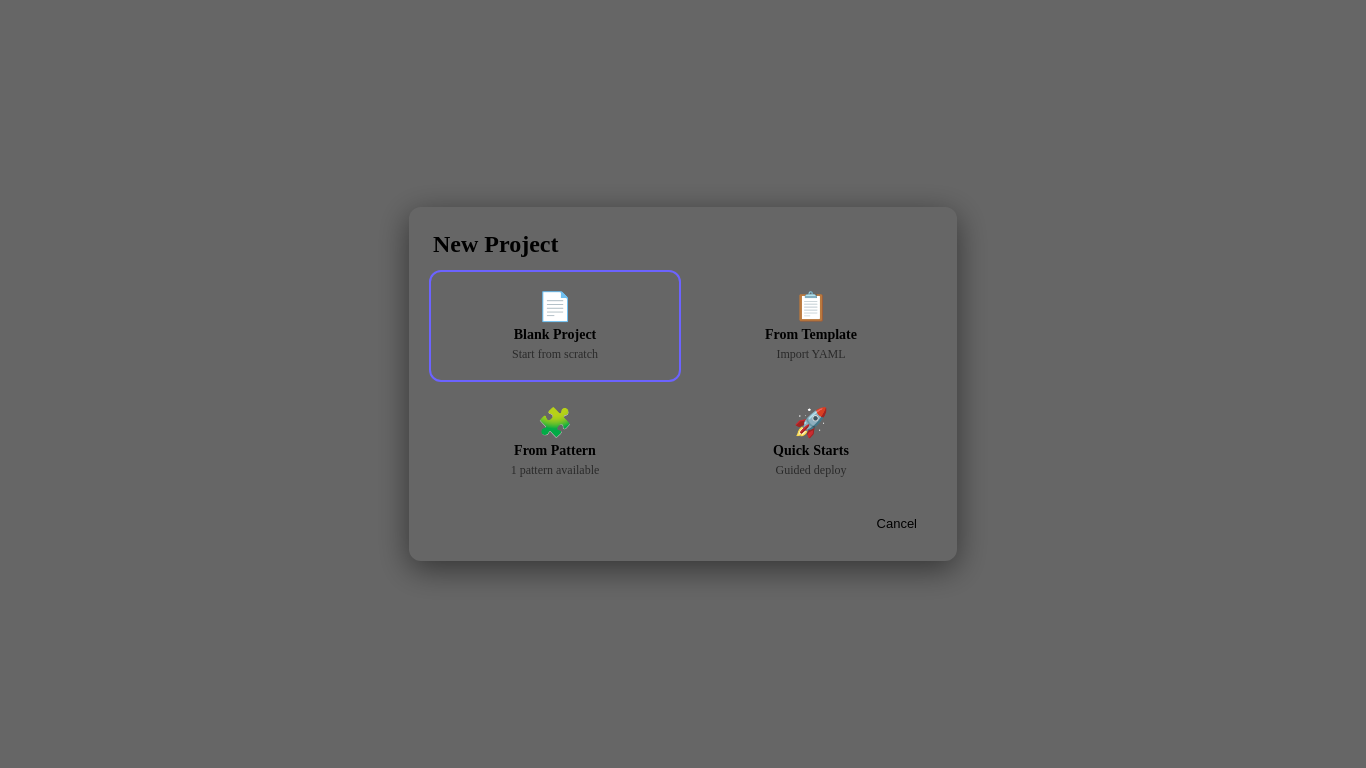
Test: new project creation › shows creation errors, network=true
expect the text "Quick Starts" is shown: met, box [773,443,849,458]
Click the text "Blank Project": (555, 334) [514,327,596,342]
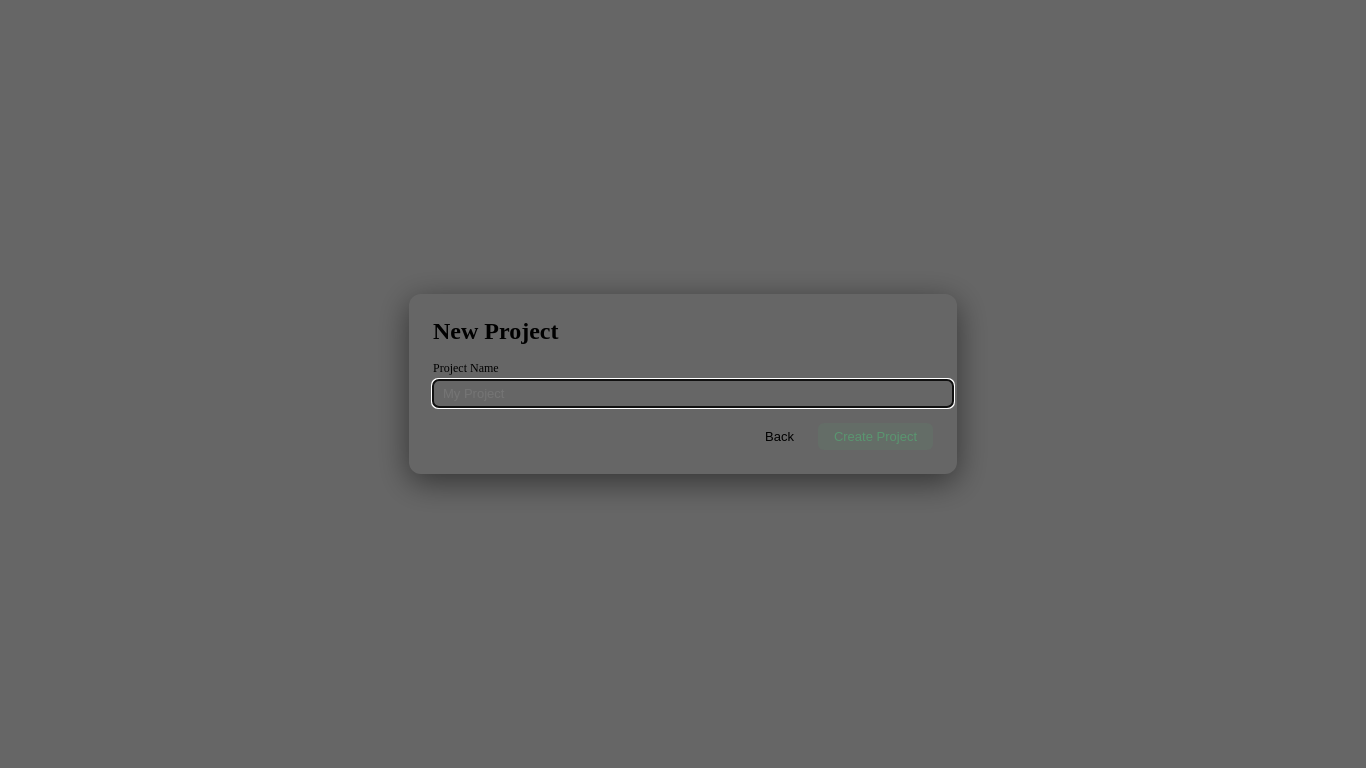
In the field with placeholder "My Project": (693, 394) [433,380,953,407], type "Example"
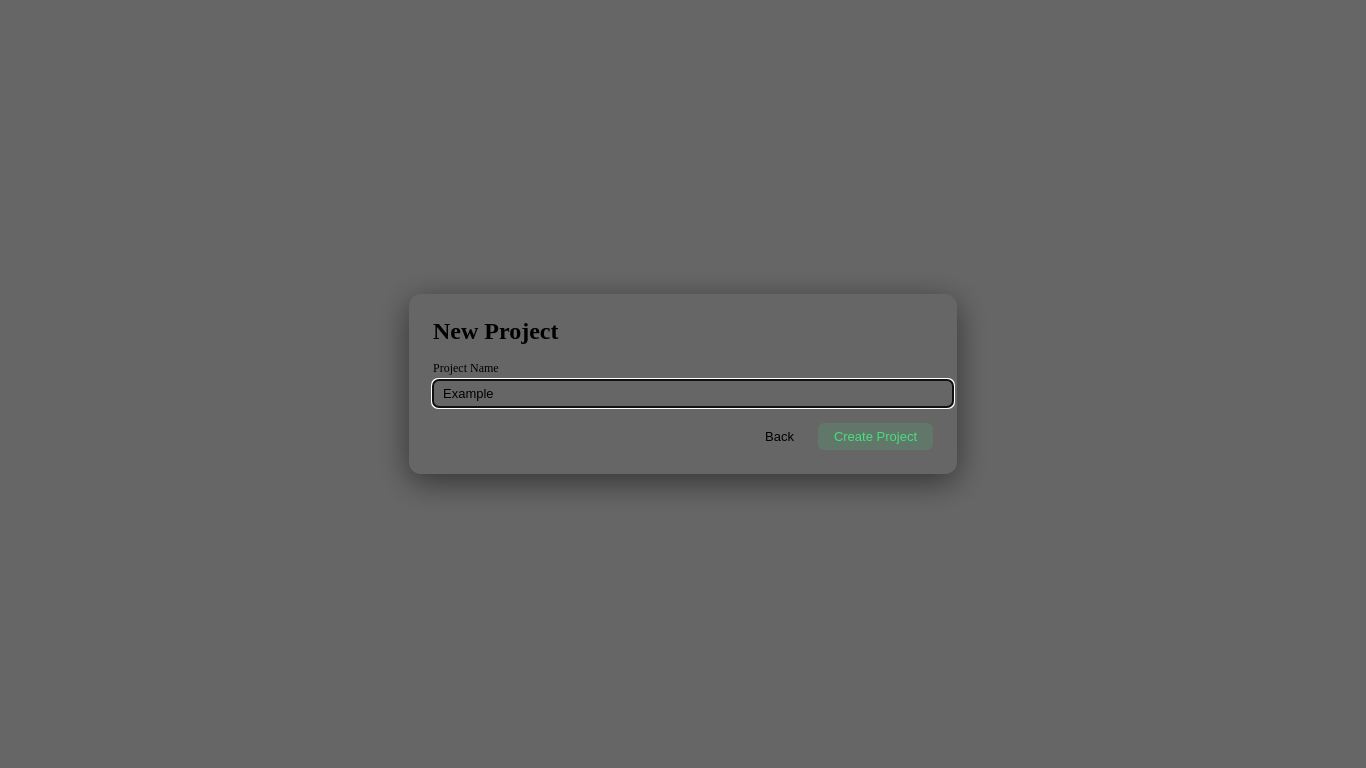
Click the button "Create Project": (875, 436) [818,423,933,450]
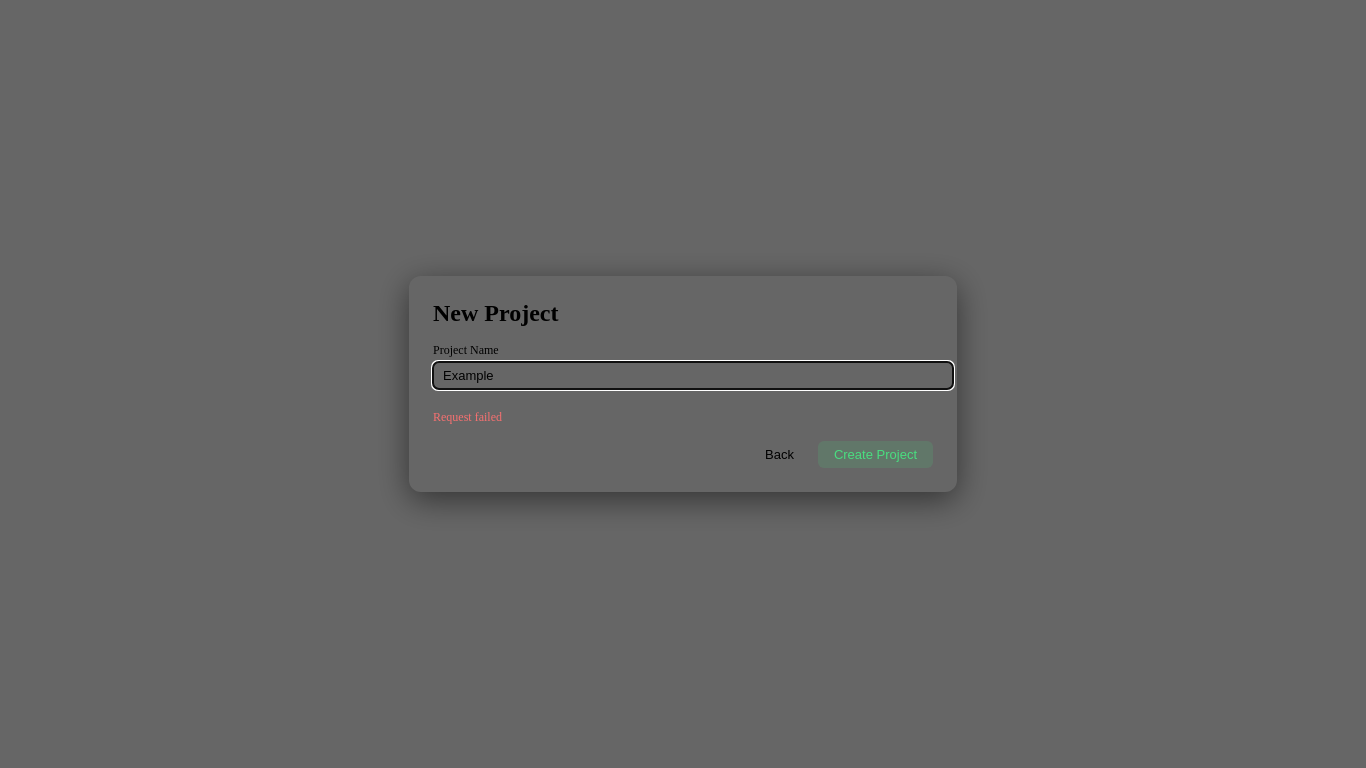
expect the text "Request failed" is shown: met, box [433,410,502,424]
